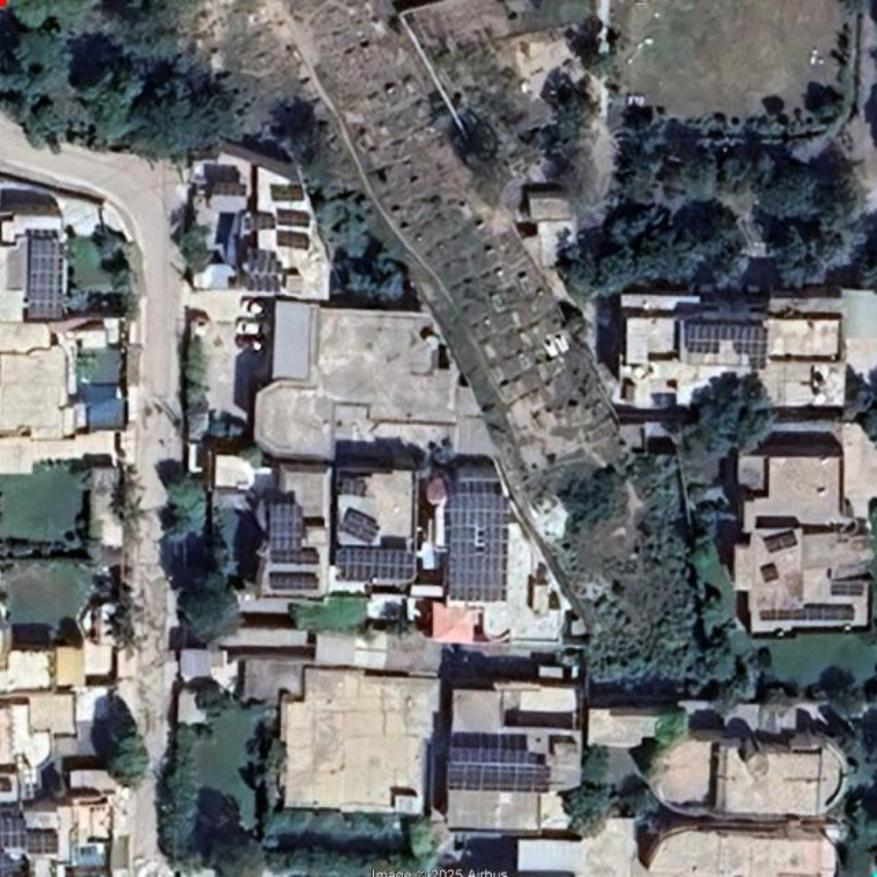Solarpanel: (449, 495, 508, 598), (444, 750, 546, 794), (26, 237, 63, 318), (684, 326, 771, 355), (338, 549, 414, 581), (340, 509, 381, 545), (266, 507, 301, 548), (243, 258, 278, 292), (271, 573, 317, 592), (763, 531, 799, 553), (272, 550, 318, 567), (0, 816, 25, 847), (27, 828, 56, 853), (804, 607, 853, 621), (270, 183, 302, 202), (279, 233, 309, 251), (215, 182, 246, 198), (278, 212, 309, 227), (830, 582, 865, 595), (248, 216, 272, 227)
